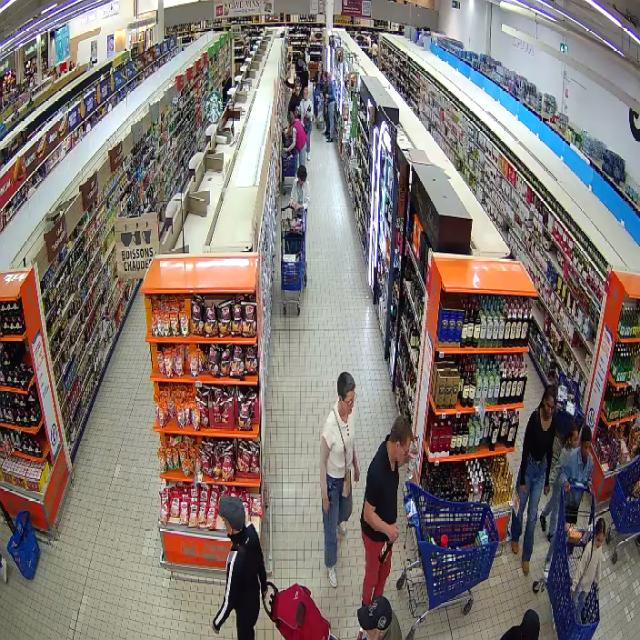article: (378, 540, 393, 562)
bags: (342, 471, 350, 497)
hands: (386, 524, 399, 543), (322, 496, 330, 514), (354, 464, 359, 482), (212, 622, 219, 634), (520, 484, 527, 495), (261, 587, 268, 598), (290, 202, 298, 210), (564, 481, 569, 492), (544, 485, 549, 495)
person: (360, 416, 412, 603), (320, 371, 359, 587), (512, 386, 555, 574), (212, 496, 266, 639), (556, 426, 593, 488), (290, 166, 309, 208)
